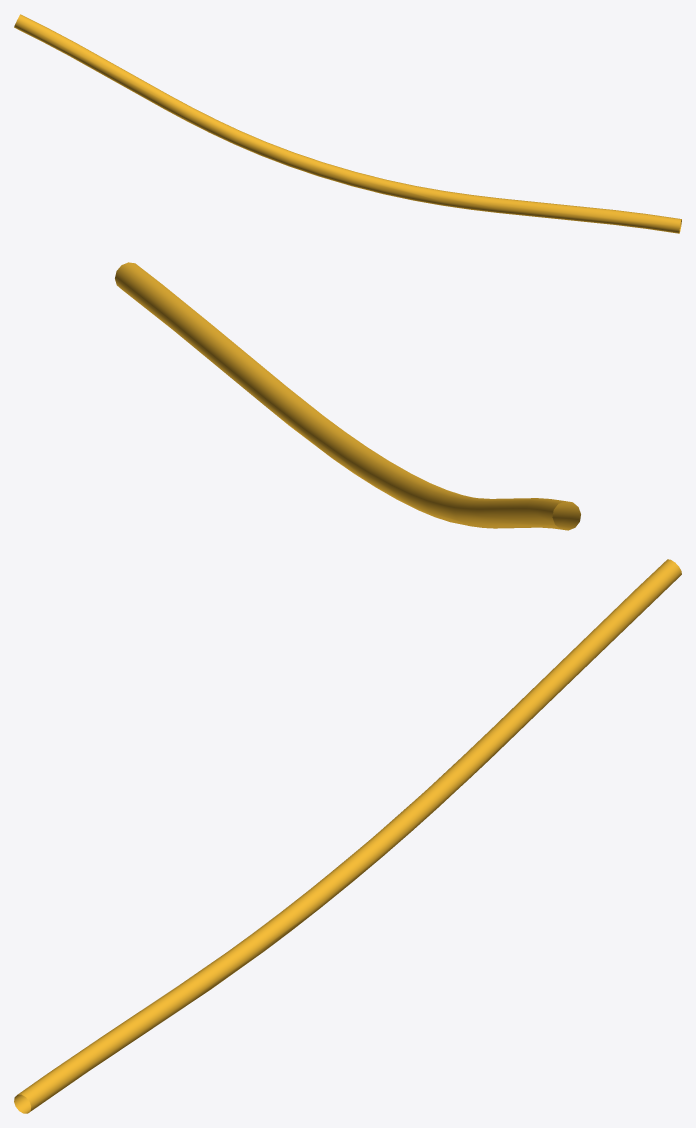
File: nervoso-infrapatellar-branch-of-saphenous-nerve-l.glb
3 renders of one model, top to bottom at view 1: azimuth 30°, elevation 25°; view 2: azimuth 150°, elevation 25°; view 3: azimuth 270°, elevation 25°, orthographic. The views are drawn at different scales.
Parts seen in each view (by area): view 1: Infrapatellar branch of saphenous nerve.l; view 2: Infrapatellar branch of saphenous nerve.l; view 3: Infrapatellar branch of saphenous nerve.l.
Part boxes in pixels (x1,y1,x2,y2): Infrapatellar branch of saphenous nerve.l: (14, 14, 681, 233); Infrapatellar branch of saphenous nerve.l: (115, 262, 580, 530); Infrapatellar branch of saphenous nerve.l: (14, 559, 681, 1113).
Bounding box in the file's own units: 0.0349 × 0.0121 × 0.0306.
